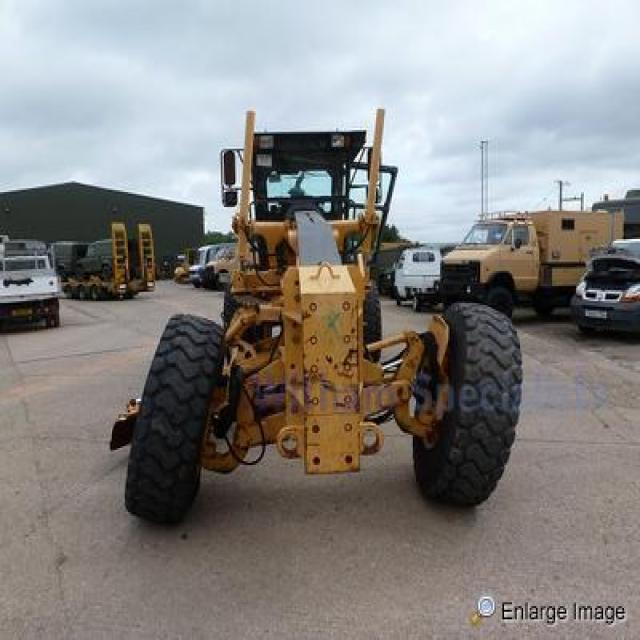Grader: (83, 77, 547, 544)
